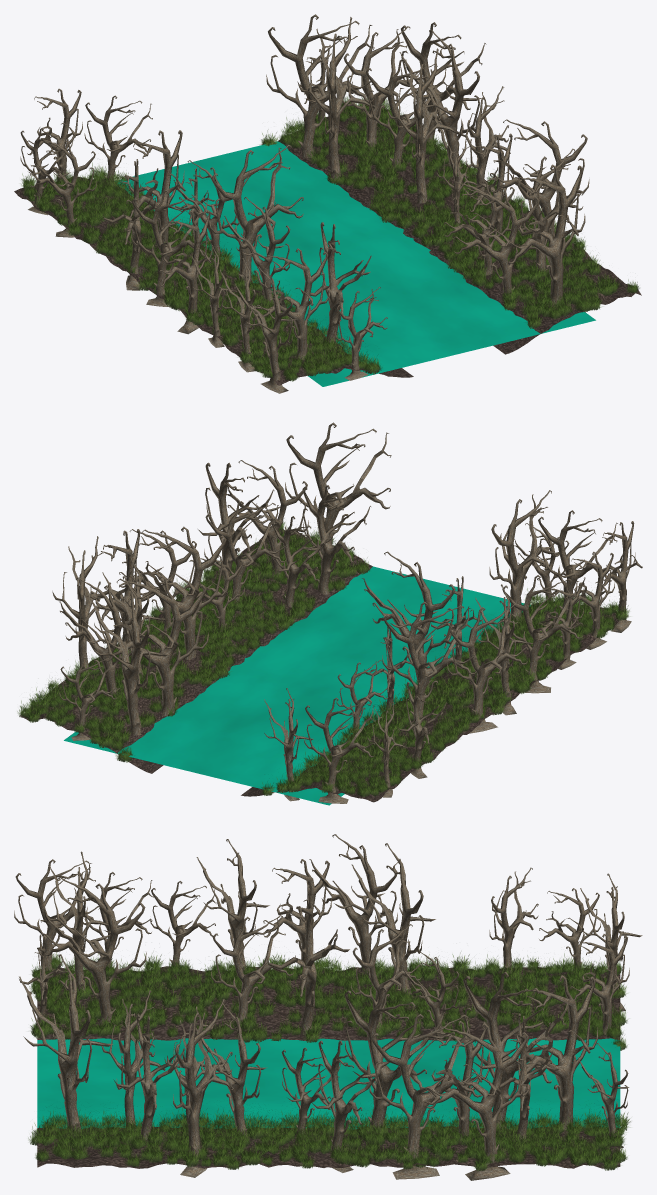
Rendered from map-minigame-river.glb.
3 renders of one model, top to bottom at view 1: azimuth 30°, elevation 25°; view 2: azimuth 150°, elevation 25°; view 3: azimuth 270°, elevation 25°, orthographic. The views are drawn at different scales.
Visible parts, largest first — view 1: water, banks, tree.031, tree.028, tree.005, tree.025, tree.023, tree.011, tree.034, tree.021, tree.013, tree.027 (+22 smaller); view 2: water, banks, tree.025, tree.031, tree.028, tree.023, tree.032, tree.002, tree.008, tree.005, tree.003, tree.034 (+24 smaller); view 3: water, banks, tree.011, tree.026, tree.028, tree.031, tree.008, tree.023, tree.025, tree.024, tree.002, tree.032 (+24 smaller).
Part boxes in pixels (x1=…): water: x1=115, y1=141, x2=595, y2=386; banks: x1=14, y1=109, x2=641, y2=385; tree.031: x1=508, y1=164, x2=585, y2=306; tree.028: x1=266, y1=14, x2=374, y2=158; tree.005: x1=209, y1=144, x2=303, y2=285; tree.025: x1=297, y1=17, x2=375, y2=182; tree.023: x1=387, y1=48, x2=459, y2=203; tree.011: x1=399, y1=29, x2=481, y2=172; tree.034: x1=454, y1=188, x2=541, y2=301; tree.021: x1=256, y1=248, x2=329, y2=359; tree.013: x1=131, y1=190, x2=209, y2=307; tree.027: x1=342, y1=26, x2=419, y2=151; water: x1=64, y1=566, x2=530, y2=805; banks: x1=19, y1=528, x2=628, y2=802; tree.025: x1=103, y1=575, x2=208, y2=716; tree.031: x1=285, y1=422, x2=391, y2=554; tree.028: x1=88, y1=576, x2=169, y2=735; tree.023: x1=128, y1=526, x2=228, y2=659; tree.032: x1=382, y1=601, x2=476, y2=723; tree.002: x1=447, y1=604, x2=527, y2=733; tree.008: x1=489, y1=490, x2=559, y2=625; tree.005: x1=362, y1=551, x2=455, y2=691; tree.003: x1=501, y1=575, x2=582, y2=693; tree.034: x1=302, y1=485, x2=370, y2=594; water: x1=37, y1=1038, x2=620, y2=1129; banks: x1=37, y1=966, x2=620, y2=1168; tree.011: x1=369, y1=1013, x2=483, y2=1179; tree.026: x1=425, y1=1023, x2=530, y2=1180; tree.028: x1=513, y1=975, x2=597, y2=1130; tree.031: x1=19, y1=954, x2=113, y2=1136; tree.008: x1=40, y1=877, x2=146, y2=1025; tree.023: x1=344, y1=986, x2=445, y2=1133; tree.025: x1=463, y1=971, x2=571, y2=1128; tree.024: x1=167, y1=999, x2=233, y2=1177; tree.002: x1=309, y1=834, x2=397, y2=973; tree.032: x1=351, y1=843, x2=435, y2=995.
Bounding box in the file's own units: 18.77 × 6.93 × 21.57.
4 materials, 4 textured.
